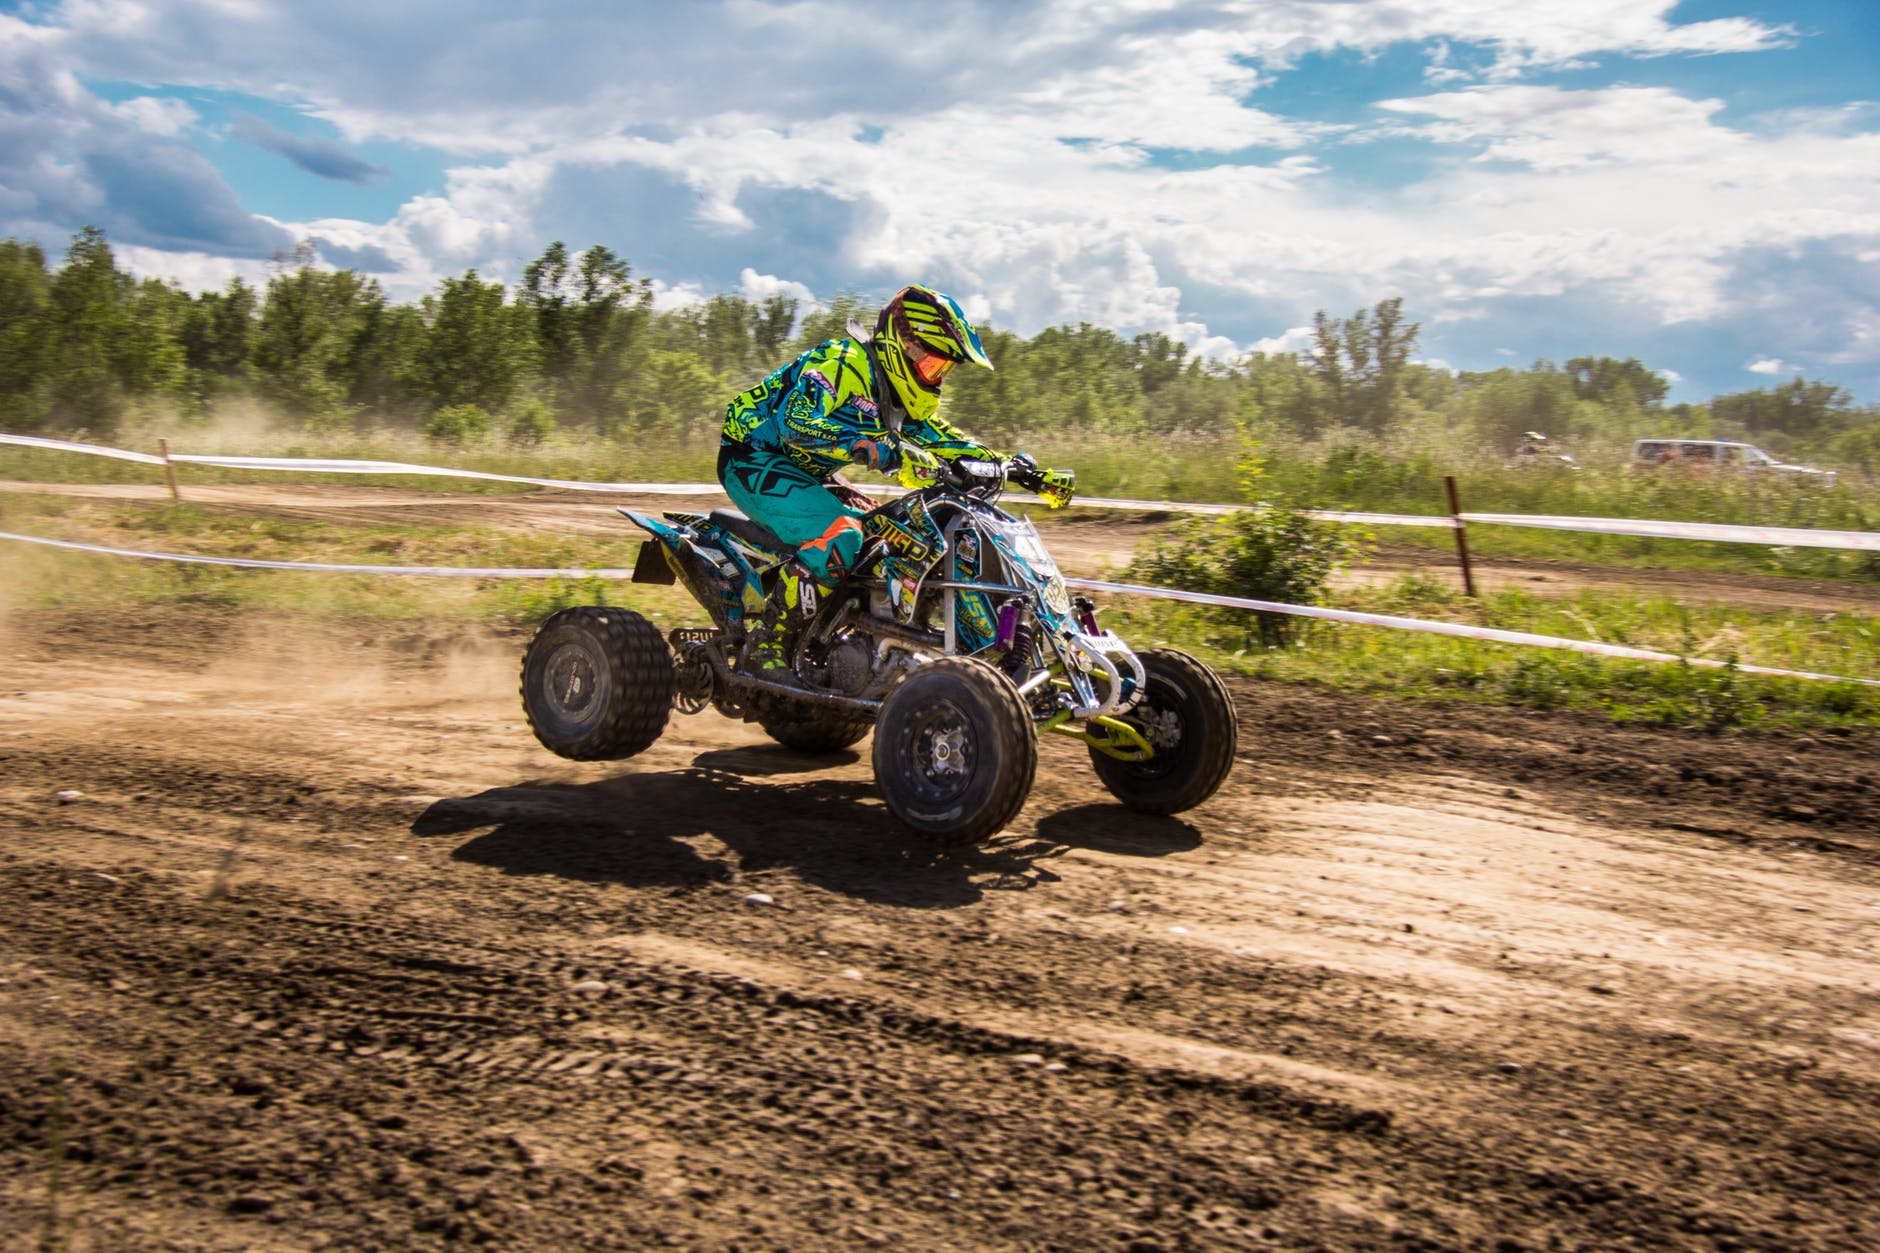helmet: (874, 289, 985, 427)
